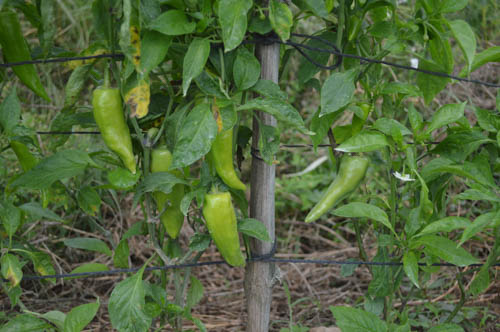ChiliPepper: (301, 154, 371, 218), (197, 101, 246, 190), (93, 87, 138, 172), (205, 192, 246, 269), (149, 151, 185, 238)
